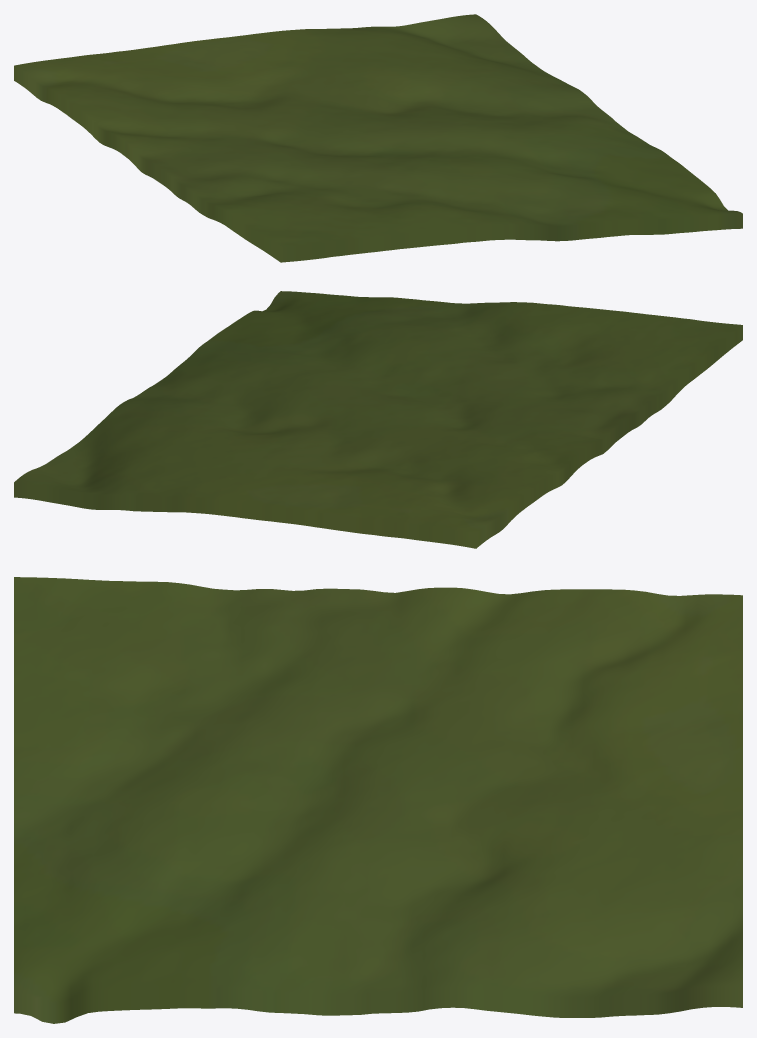
File: terrain_6_-18.glb
3 views of the same model, one above another, from view 1: azimuth 30°, elevation 25°; view 2: azimuth 150°, elevation 25°; view 3: azimuth 270°, elevation 25° (orthographic). The views are drawn at different scales.
Parts seen in each view (by area): view 1: terrain_6_-18; view 2: terrain_6_-18; view 3: terrain_6_-18.
Part boxes in pixels (box(x1,y1,x2,y2)): terrain_6_-18: box(14, 14, 742, 262); terrain_6_-18: box(14, 291, 742, 548); terrain_6_-18: box(14, 577, 742, 1023).
Size of the model in its own units: 256 by 53.8 by 256.
